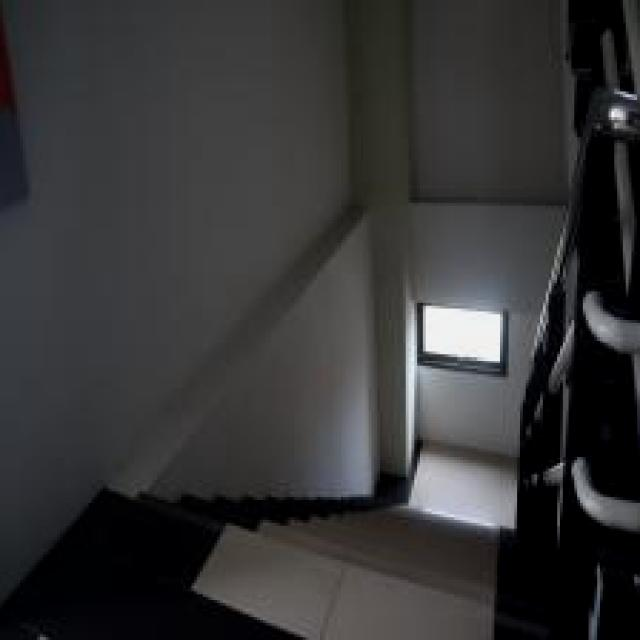downstair: (218, 509, 450, 624)
